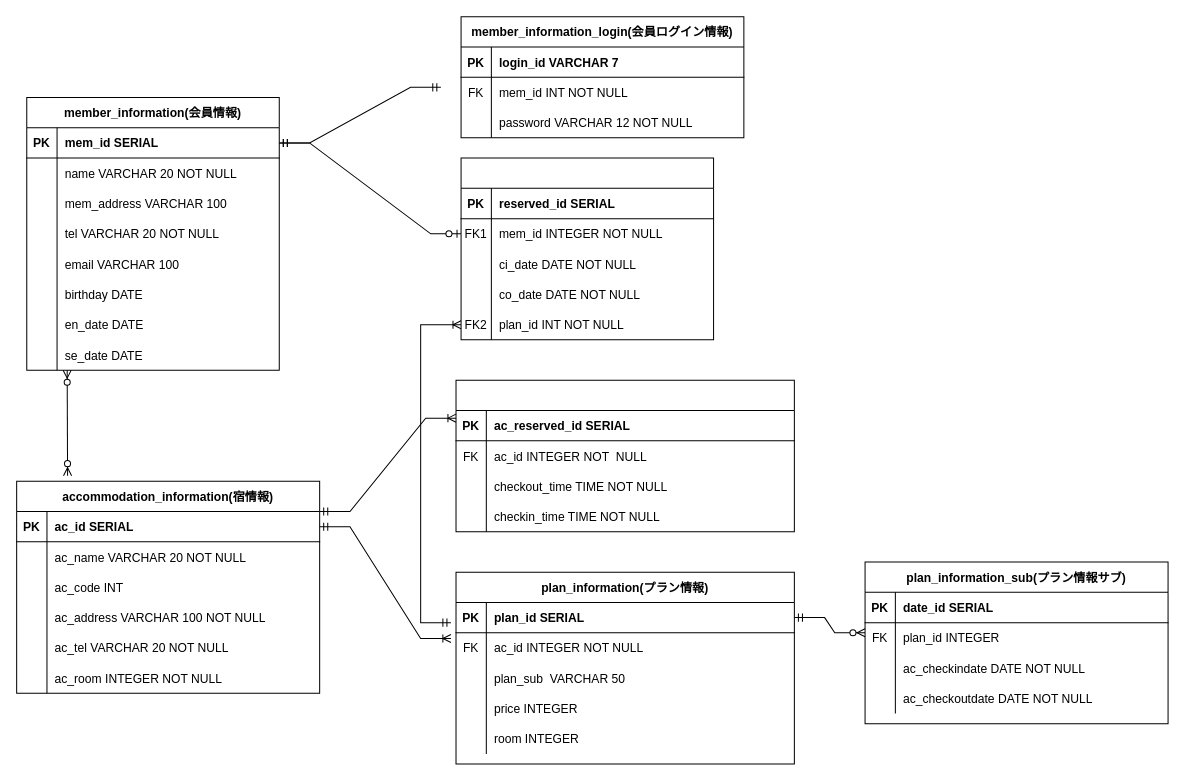
Some shapes in this 1185 by 781 pixel diagram are drawn without their labels. Each missing label, with the box of its shape:
accommodation_information_time(宿予約情報): (455, 379, 794, 532)
reservation(予約情報): (460, 157, 714, 340)
